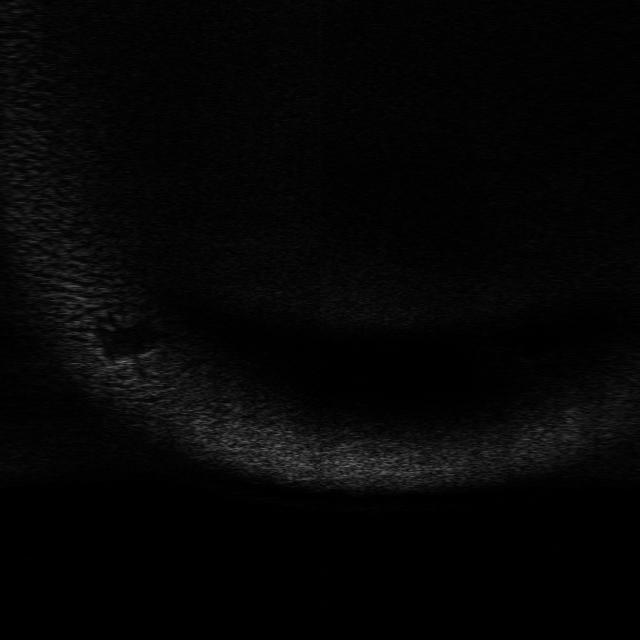plane: (93, 346, 161, 379)
